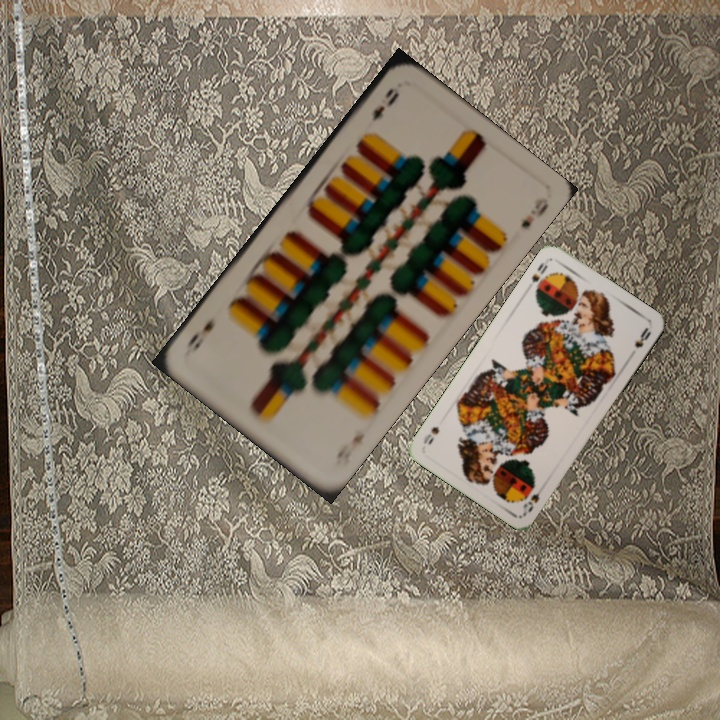E9: (331, 429, 368, 469), (367, 84, 402, 124)
SO: (527, 258, 551, 285), (519, 489, 542, 516)
